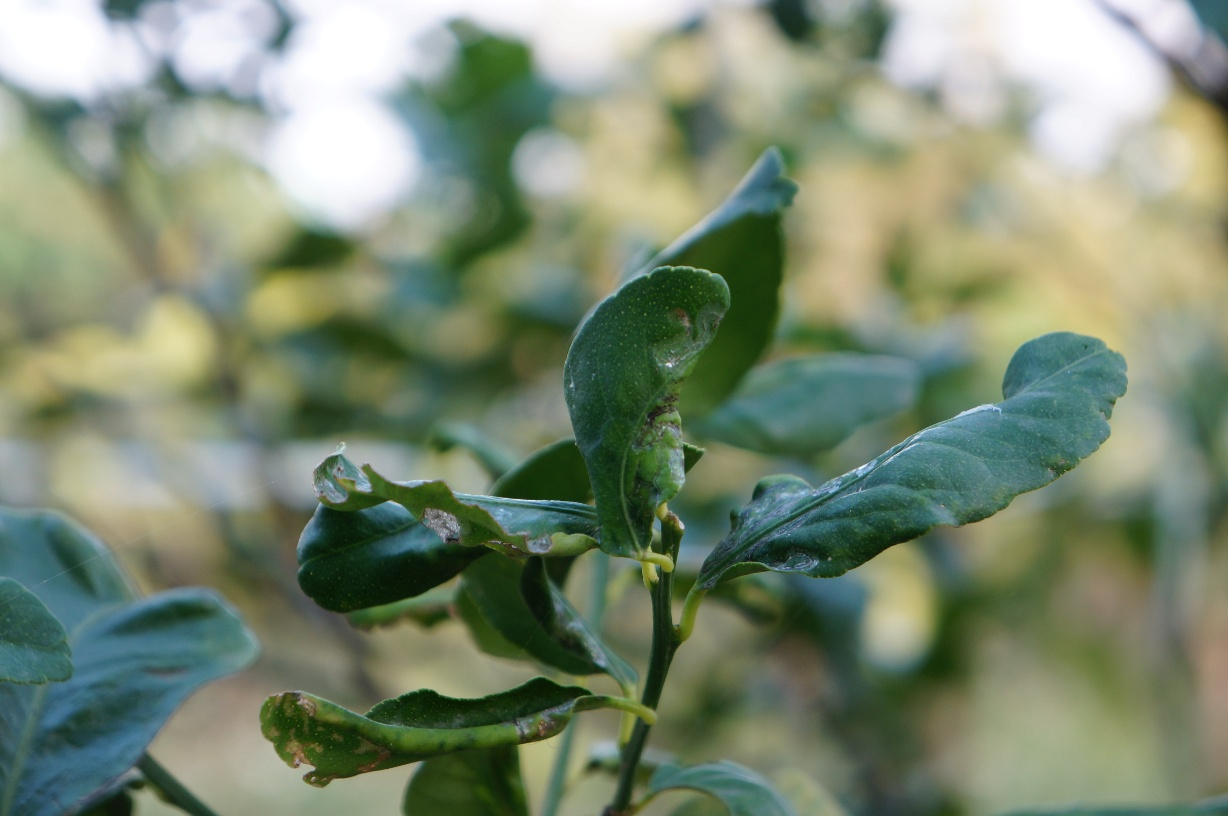curly: (250, 669, 615, 794)
